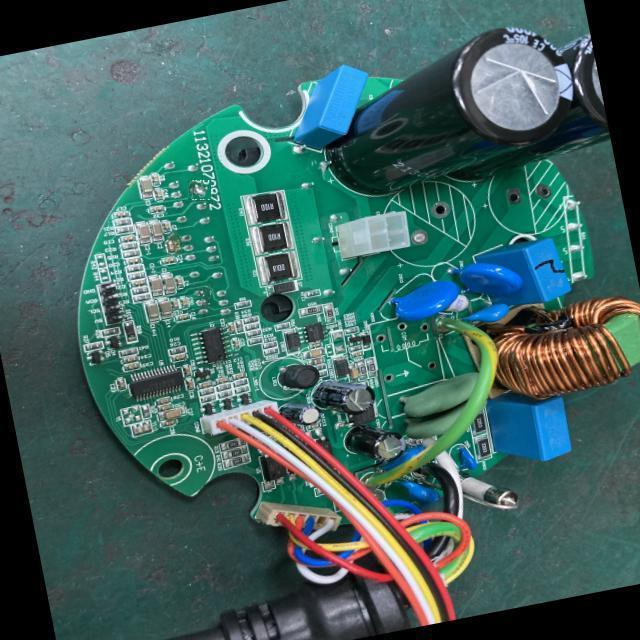damged: (188, 180, 210, 202)
